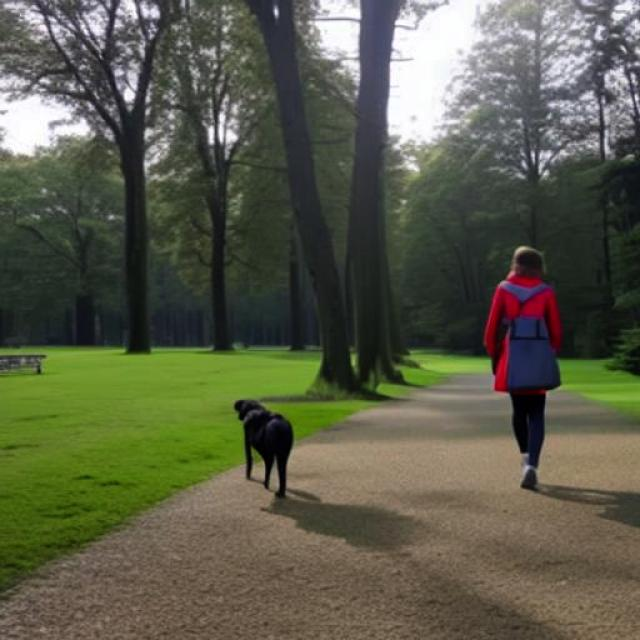Unleashed_Dog: (234, 342, 548, 498)
